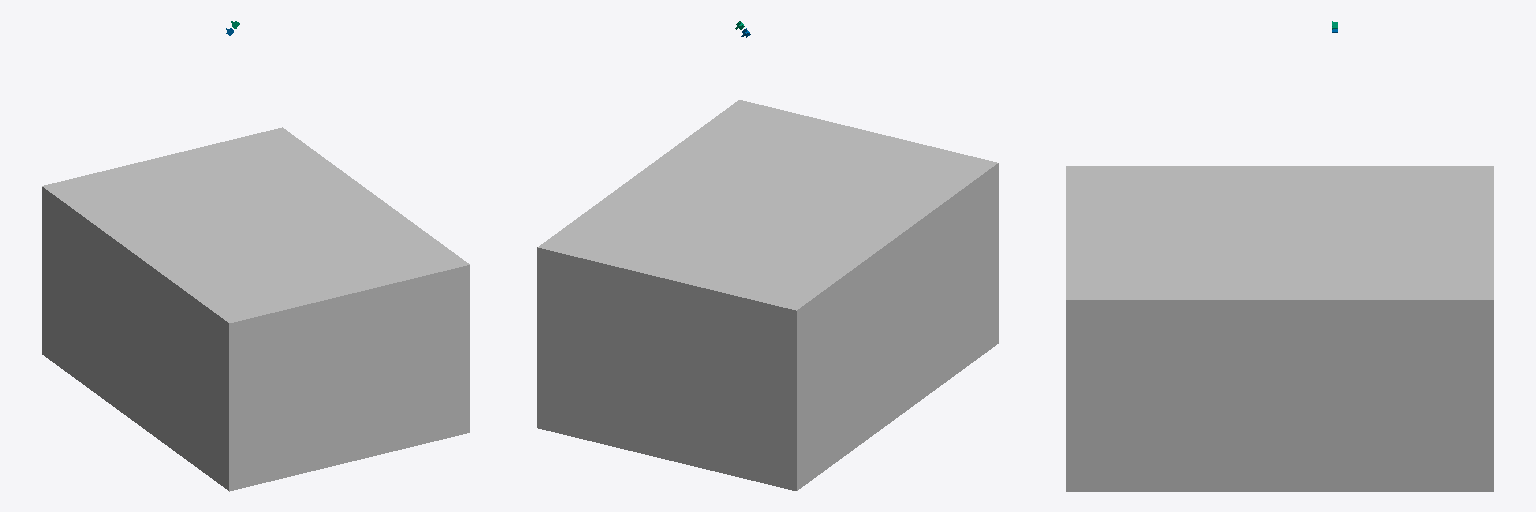
robot.urdf — panda:
<?xml version="1.0" ?>
<!-- =================================================================================== -->
<!-- |    This document was autogenerated by xacro from mmint_panda.urdf.xacro         | -->
<!-- |    EDITING THIS FILE BY HAND IS NOT RECOMMENDED                                 | -->
<!-- =================================================================================== -->
<robot name="panda">
  <material name="blue">
    <color rgba="0.0 0.0 0.8 1.0"/>
  </material>
  <material name="green">
    <color rgba="0.0 0.8 0.0 1.0"/>
  </material>
  <material name="grey">
    <color rgba="0.2 0.2 0.2 1.0"/>
  </material>
  <material name="orange">
    <color rgba="1.0 0.4235294117647059 0.0392156862745098 1.0"/>
  </material>
  <material name="brown">
    <color rgba="0.8705882352941177 0.8117647058823529 0.7647058823529411 1.0"/>
  </material>
  <material name="red">
    <color rgba="0.8 0.0 0.0 1.0"/>
  </material>
  <material name="white">
    <color rgba="1.0 1.0 1.0 1.0"/>
  </material>
  <material name="black">
    <color rgba="0.0 0.0 0.0 1.0"/>
  </material>
  <material name="light_grey">
    <color rgba="0.8 0.8 0.8 1.0"/>
  </material>
  <material name="trans_grey">
    <color rgba="0.2 0.2 0.2 0.5"/>
  </material>
  <!-- box shaped table as base for the 2 Pandas -->
  <link name="base">
    <visual>
      <origin rpy="0 0 0" xyz="0 0 0.3"/>
      <geometry>
        <box size="0.9 1.215 0.6"/>
      </geometry>
      <material name="light_grey"/>
    </visual>
    <collision>
      <origin rpy="0 0 0" xyz="0 0 0.3"/>
      <geometry>
        <box size="0.9 1.215 0.6"/>
      </geometry>
    </collision>
  </link>
  <link name="tabletop"/>
  <joint name="world_to_table" type="fixed">
    <origin rpy="0 0 0" xyz="0 0 0.6"/>
    <parent link="base"/>
    <child link="tabletop"/>
  </joint>
  <joint name="panda_1_joint_base" type="fixed">
    <parent link="base"/>
    <child link="panda_1_link0"/>
    <origin rpy="0.0 0.0 -1.57079633" xyz="0 0.4425 0.6"/>
  </joint>
  <!-- sub-link defining detailed meshes for collision with environment -->
  <link name="panda_1_link0">
    <visual>
      <geometry>
        <mesh filename="package://franka_description/meshes/visual/link0.dae"/>
      </geometry>
    </visual>
    <collision>
      <geometry>
        <mesh filename="package://franka_description/meshes/collision/link0.stl"/>
      </geometry>
    </collision>
  </link>
  <!-- sub-link defining coarse geometries of real robot's internal self-collision -->
  <link name="panda_1_link0_sc">
    <collision>
      <origin rpy="0 1.5707963267948966 0" xyz="-0.075 0 0.06"/>
      <geometry>
        <cylinder length="0.03" radius="0.06"/>
      </geometry>
    </collision>
    <collision>
      <origin xyz="-0.06 0 0.06"/>
      <geometry>
        <sphere radius="0.06"/>
      </geometry>
    </collision>
    <collision>
      <origin xyz="-0.09 0 0.06"/>
      <geometry>
        <sphere radius="0.06"/>
      </geometry>
    </collision>
  </link>
  <!-- fixed joint between both sub-links -->
  <joint name="panda_1_link0_sc_joint" type="fixed">
    <origin rpy="0 0 0"/>
    <parent link="panda_1_link0"/>
    <child link="panda_1_link0_sc"/>
  </joint>
  <!-- sub-link defining detailed meshes for collision with environment -->
  <link name="panda_1_link1">
    <visual>
      <geometry>
        <mesh filename="package://franka_description/meshes/visual/link1.dae"/>
      </geometry>
    </visual>
    <collision>
      <geometry>
        <mesh filename="package://franka_description/meshes/collision/link1.stl"/>
      </geometry>
    </collision>
  </link>
  <!-- sub-link defining coarse geometries of real robot's internal self-collision -->
  <link name="panda_1_link1_sc">
    <collision>
      <origin rpy="0 0 0" xyz="0 0 -0.1915"/>
      <geometry>
        <cylinder length="0.283" radius="0.06"/>
      </geometry>
    </collision>
    <collision>
      <origin xyz="0 0 -0.05000000000000002"/>
      <geometry>
        <sphere radius="0.06"/>
      </geometry>
    </collision>
    <collision>
      <origin xyz="0 0 -0.33299999999999996"/>
      <geometry>
        <sphere radius="0.06"/>
      </geometry>
    </collision>
  </link>
  <!-- fixed joint between both sub-links -->
  <joint name="panda_1_link1_sc_joint" type="fixed">
    <origin rpy="0 0 0"/>
    <parent link="panda_1_link1"/>
    <child link="panda_1_link1_sc"/>
  </joint>
  <joint name="panda_1_joint1" type="revolute">
    <origin rpy="0 0 0" xyz="0 0 0.333"/>
    <parent link="panda_1_link0"/>
    <child link="panda_1_link1"/>
    <axis xyz="0 0 1"/>
    <limit effort="87.0" lower="-2.8973" upper="2.8973" velocity="2.175"/>
    <safety_controller k_position="100.0" k_velocity="40.0" soft_lower_limit="-2.8973" soft_upper_limit="2.8973"/>
    <dynamics D="1" K="7000" damping="0.003" friction="0.0" mu_coulomb="0" mu_viscous="16"/>
  </joint>
  <!-- sub-link defining detailed meshes for collision with environment -->
  <link name="panda_1_link2">
    <visual>
      <geometry>
        <mesh filename="package://franka_description/meshes/visual/link2.dae"/>
      </geometry>
    </visual>
    <collision>
      <geometry>
        <mesh filename="package://franka_description/meshes/collision/link2.stl"/>
      </geometry>
    </collision>
  </link>
  <!-- sub-link defining coarse geometries of real robot's internal self-collision -->
  <link name="panda_1_link2_sc">
    <collision>
      <origin rpy="0 0 0" xyz="0 0 0"/>
      <geometry>
        <cylinder length="0.12" radius="0.06"/>
      </geometry>
    </collision>
    <collision>
      <origin xyz="0 0 0.06"/>
      <geometry>
        <sphere radius="0.06"/>
      </geometry>
    </collision>
    <collision>
      <origin xyz="0 0 -0.06"/>
      <geometry>
        <sphere radius="0.06"/>
      </geometry>
    </collision>
  </link>
  <!-- fixed joint between both sub-links -->
  <joint name="panda_1_link2_sc_joint" type="fixed">
    <origin rpy="0 0 0"/>
    <parent link="panda_1_link2"/>
    <child link="panda_1_link2_sc"/>
  </joint>
  <joint name="panda_1_joint2" type="revolute">
    <origin rpy="-1.5707963267948966 0 0" xyz="0 0 0"/>
    <parent link="panda_1_link1"/>
    <child link="panda_1_link2"/>
    <axis xyz="0 0 1"/>
    <limit effort="87.0" lower="-1.7628" upper="1.7628" velocity="2.175"/>
    <safety_controller k_position="100.0" k_velocity="40.0" soft_lower_limit="-1.7628" soft_upper_limit="1.7628"/>
    <dynamics D="1" K="7000" damping="0.003" friction="0.0" mu_coulomb="0" mu_viscous="16"/>
  </joint>
  <!-- sub-link defining detailed meshes for collision with environment -->
  <link name="panda_1_link3">
    <visual>
      <geometry>
        <mesh filename="package://franka_description/meshes/visual/link3.dae"/>
      </geometry>
    </visual>
    <collision>
      <geometry>
        <mesh filename="package://franka_description/meshes/collision/link3.stl"/>
      </geometry>
    </collision>
  </link>
  <!-- sub-link defining coarse geometries of real robot's internal self-collision -->
  <link name="panda_1_link3_sc">
    <collision>
      <origin rpy="0 0 0" xyz="0 0 -0.145"/>
      <geometry>
        <cylinder length="0.15" radius="0.06"/>
      </geometry>
    </collision>
    <collision>
      <origin xyz="0 0 -0.06999999999999999"/>
      <geometry>
        <sphere radius="0.06"/>
      </geometry>
    </collision>
    <collision>
      <origin xyz="0 0 -0.21999999999999997"/>
      <geometry>
        <sphere radius="0.06"/>
      </geometry>
    </collision>
  </link>
  <!-- fixed joint between both sub-links -->
  <joint name="panda_1_link3_sc_joint" type="fixed">
    <origin rpy="0 0 0"/>
    <parent link="panda_1_link3"/>
    <child link="panda_1_link3_sc"/>
  </joint>
  <joint name="panda_1_joint3" type="revolute">
    <origin rpy="1.5707963267948966 0 0" xyz="0 -0.316 0"/>
    <parent link="panda_1_link2"/>
    <child link="panda_1_link3"/>
    <axis xyz="0 0 1"/>
    <limit effort="87.0" lower="-2.8973" upper="2.8973" velocity="2.175"/>
    <safety_controller k_position="100.0" k_velocity="40.0" soft_lower_limit="-2.8973" soft_upper_limit="2.8973"/>
    <dynamics D="1" K="7000" damping="0.003" friction="0.0" mu_coulomb="0" mu_viscous="16"/>
  </joint>
  <!-- sub-link defining detailed meshes for collision with environment -->
  <link name="panda_1_link4">
    <visual>
      <geometry>
        <mesh filename="package://franka_description/meshes/visual/link4.dae"/>
      </geometry>
    </visual>
    <collision>
      <geometry>
        <mesh filename="package://franka_description/meshes/collision/link4.stl"/>
      </geometry>
    </collision>
  </link>
  <!-- sub-link defining coarse geometries of real robot's internal self-collision -->
  <link name="panda_1_link4_sc">
    <collision>
      <origin rpy="0 0 0" xyz="0 0 0"/>
      <geometry>
        <cylinder length="0.12" radius="0.06"/>
      </geometry>
    </collision>
    <collision>
      <origin xyz="0 0 0.06"/>
      <geometry>
        <sphere radius="0.06"/>
      </geometry>
    </collision>
    <collision>
      <origin xyz="0 0 -0.06"/>
      <geometry>
        <sphere radius="0.06"/>
      </geometry>
    </collision>
  </link>
  <!-- fixed joint between both sub-links -->
  <joint name="panda_1_link4_sc_joint" type="fixed">
    <origin rpy="0 0 0"/>
    <parent link="panda_1_link4"/>
    <child link="panda_1_link4_sc"/>
  </joint>
  <joint name="panda_1_joint4" type="revolute">
    <origin rpy="1.5707963267948966 0 0" xyz="0.0825 0 0"/>
    <parent link="panda_1_link3"/>
    <child link="panda_1_link4"/>
    <axis xyz="0 0 1"/>
    <limit effort="87.0" lower="-3.0718" upper="-0.0698" velocity="2.175"/>
    <safety_controller k_position="100.0" k_velocity="40.0" soft_lower_limit="-3.0718" soft_upper_limit="-0.0698"/>
    <dynamics D="1" K="7000" damping="0.003" friction="0.0" mu_coulomb="0" mu_viscous="16"/>
  </joint>
  <!-- sub-link defining detailed meshes for collision with environment -->
  <link name="panda_1_link5">
    <visual>
      <geometry>
        <mesh filename="package://franka_description/meshes/visual/link5.dae"/>
      </geometry>
    </visual>
    <collision>
      <geometry>
        <mesh filename="package://franka_description/meshes/collision/link5.stl"/>
      </geometry>
    </collision>
  </link>
  <!-- sub-link defining coarse geometries of real robot's internal self-collision -->
  <link name="panda_1_link5_sc">
    <collision>
      <origin rpy="0 0 0" xyz="0 0 -0.26"/>
      <geometry>
        <cylinder length="0.1" radius="0.06"/>
      </geometry>
    </collision>
    <collision>
      <origin xyz="0 0 -0.21000000000000002"/>
      <geometry>
        <sphere radius="0.06"/>
      </geometry>
    </collision>
    <collision>
      <origin xyz="0 0 -0.31"/>
      <geometry>
        <sphere radius="0.06"/>
      </geometry>
    </collision>
    <collision>
      <origin rpy="0 0 0.08" xyz="0 0.08 -0.13"/>
      <geometry>
        <cylinder length="0.14" radius="0.025"/>
      </geometry>
    </collision>
    <collision>
      <origin xyz="0 0.08 -0.06"/>
      <geometry>
        <sphere radius="0.025"/>
      </geometry>
    </collision>
    <collision>
      <origin xyz="0 0.08 -0.2"/>
      <geometry>
        <sphere radius="0.025"/>
      </geometry>
    </collision>
  </link>
  <!-- fixed joint between both sub-links -->
  <joint name="panda_1_link5_sc_joint" type="fixed">
    <origin rpy="0 0 0"/>
    <parent link="panda_1_link5"/>
    <child link="panda_1_link5_sc"/>
  </joint>
  <joint name="panda_1_joint5" type="revolute">
    <origin rpy="-1.5707963267948966 0 0" xyz="-0.0825 0.384 0"/>
    <parent link="panda_1_link4"/>
    <child link="panda_1_link5"/>
    <axis xyz="0 0 1"/>
    <limit effort="12.0" lower="-2.8973" upper="2.8973" velocity="2.61"/>
    <safety_controller k_position="100.0" k_velocity="40.0" soft_lower_limit="-2.8973" soft_upper_limit="2.8973"/>
    <dynamics D="1" K="7000" damping="0.003" friction="0.0" mu_coulomb="0" mu_viscous="16"/>
  </joint>
  <!-- sub-link defining detailed meshes for collision with environment -->
  <link name="panda_1_link6">
    <visual>
      <geometry>
        <mesh filename="package://franka_description/meshes/visual/link6.dae"/>
      </geometry>
    </visual>
    <collision>
      <geometry>
        <mesh filename="package://franka_description/meshes/collision/link6.stl"/>
      </geometry>
    </collision>
  </link>
  <!-- sub-link defining coarse geometries of real robot's internal self-collision -->
  <link name="panda_1_link6_sc">
    <collision>
      <origin rpy="0 0 0" xyz="0 0 -0.03"/>
      <geometry>
        <cylinder length="0.08" radius="0.05"/>
      </geometry>
    </collision>
    <collision>
      <origin xyz="0 0 0.010000000000000002"/>
      <geometry>
        <sphere radius="0.05"/>
      </geometry>
    </collision>
    <collision>
      <origin xyz="0 0 -0.07"/>
      <geometry>
        <sphere radius="0.05"/>
      </geometry>
    </collision>
  </link>
  <!-- fixed joint between both sub-links -->
  <joint name="panda_1_link6_sc_joint" type="fixed">
    <origin rpy="0 0 0"/>
    <parent link="panda_1_link6"/>
    <child link="panda_1_link6_sc"/>
  </joint>
  <joint name="panda_1_joint6" type="revolute">
    <origin rpy="1.5707963267948966 0 0" xyz="0 0 0"/>
    <parent link="panda_1_link5"/>
    <child link="panda_1_link6"/>
    <axis xyz="0 0 1"/>
    <limit effort="12.0" lower="-0.0175" upper="3.7525" velocity="2.61"/>
    <safety_controller k_position="100.0" k_velocity="40.0" soft_lower_limit="-0.0175" soft_upper_limit="3.7525"/>
    <dynamics D="1" K="7000" damping="0.003" friction="0.0" mu_coulomb="0" mu_viscous="16"/>
  </joint>
  <!-- sub-link defining detailed meshes for collision with environment -->
  <link name="panda_1_link7">
    <visual>
      <geometry>
        <mesh filename="package://franka_description/meshes/visual/link7.dae"/>
      </geometry>
    </visual>
    <collision>
      <geometry>
        <mesh filename="package://franka_description/meshes/collision/link7.stl"/>
      </geometry>
    </collision>
  </link>
  <!-- sub-link defining coarse geometries of real robot's internal self-collision -->
  <link name="panda_1_link7_sc">
    <collision>
      <origin rpy="0 0 0" xyz="0 0 0.01"/>
      <geometry>
        <cylinder length="0.14" radius="0.04"/>
      </geometry>
    </collision>
    <collision>
      <origin xyz="0 0 0.08"/>
      <geometry>
        <sphere radius="0.04"/>
      </geometry>
    </collision>
    <collision>
      <origin xyz="0 0 -0.060000000000000005"/>
      <geometry>
        <sphere radius="0.04"/>
      </geometry>
    </collision>
    <collision>
      <origin rpy="0 1.5707963267948966 0" xyz="0.06 0 0.082"/>
      <geometry>
        <cylinder length="0.01" radius="0.03"/>
      </geometry>
    </collision>
    <collision>
      <origin xyz="0.065 0 0.082"/>
      <geometry>
        <sphere radius="0.03"/>
      </geometry>
    </collision>
    <collision>
      <origin xyz="0.055 0 0.082"/>
      <geometry>
        <sphere radius="0.03"/>
      </geometry>
    </collision>
  </link>
  <!-- fixed joint between both sub-links -->
  <joint name="panda_1_link7_sc_joint" type="fixed">
    <origin rpy="0 0 0.7853981633974483"/>
    <parent link="panda_1_link7"/>
    <child link="panda_1_link7_sc"/>
  </joint>
  <joint name="panda_1_joint7" type="revolute">
    <origin rpy="1.5707963267948966 0 0" xyz="0.088 0 0"/>
    <parent link="panda_1_link6"/>
    <child link="panda_1_link7"/>
    <axis xyz="0 0 1"/>
    <limit effort="12.0" lower="-2.8973" upper="2.8973" velocity="2.61"/>
    <safety_controller k_position="100.0" k_velocity="40.0" soft_lower_limit="-2.8973" soft_upper_limit="2.8973"/>
    <dynamics D="1" K="7000" damping="0.003" friction="0.0" mu_coulomb="0" mu_viscous="16"/>
  </joint>
  <link name="panda_1_link8"/>
  <joint name="panda_1_joint8" type="fixed">
    <origin rpy="0 0 0" xyz="0 0 0.107"/>
    <parent link="panda_1_link7"/>
    <child link="panda_1_link8"/>
  </joint>
  <joint name="panda_1_hand_joint" type="fixed">
    <parent link="panda_1_link8"/>
    <child link="panda_1_hand"/>
    <origin rpy="0 0 -0.7853981633974483" xyz="0 0 0"/>
  </joint>
  <link name="panda_1_hand">
    <visual>
      <geometry>
        <mesh filename="package://franka_description/meshes/visual/hand.dae"/>
      </geometry>
    </visual>
    <collision>
      <geometry>
        <mesh filename="package://franka_description/meshes/collision/hand.stl"/>
      </geometry>
    </collision>
  </link>
  <!--  Left finger  -->
  <joint name="panda_1_finger_joint1" type="prismatic">
    <parent link="panda_1_hand"/>
    <child link="mount_left"/>
    <origin rpy="-1.5707963268 0 0" xyz="0 0 0.06340285"/>
    <axis xyz="0 0 1"/>
    <limit effort="100" lower="0" upper="0.04" velocity="0.2"/>
  </joint>
  <link name="mount_left">
    <visual>
      <origin rpy="3.1415926536 0 0" xyz="0.0 0.0 0.0"/>
      <geometry>
        <mesh filename="package://mmint_franka_description/meshes/visual/gelsight/panda_attach_gs_mini.obj"/>
      </geometry>
    </visual>
    <collision>
      <origin rpy="3.1415926536 0 0" xyz="0.0 0.0 0.0"/>
      <geometry>
        <mesh filename="package://mmint_franka_description/meshes/visual/gelsight/panda_attach_gs_mini.obj"/>
      </geometry>
    </collision>
  </link>
  <joint name="mount_joint_left" type="fixed">
    <parent link="mount_left"/>
    <child link="panda_1_leftfinger"/>
    <origin rpy="0 0 0" xyz="0.0 -0.02 0.0175"/>
  </joint>
  <link name="panda_1_leftfinger">
    <visual>
      <origin rpy="0 0 0" xyz="0 0 0"/>
      <geometry>
        <mesh filename="package://mmint_franka_description/meshes/visual/gelsight/panda_adapter_gsmini.obj"/>
      </geometry>
    </visual>
    <collision>
      <origin rpy="0 0 0" xyz="0.0 0.0 0.0"/>
      <geometry>
        <mesh filename="package://mmint_franka_description/meshes/visual/gelsight/panda_adapter_gsmini.obj"/>
      </geometry>
    </collision>
  </link>
  <joint name="panda_1_fingerbox_left_joint" type="fixed">
    <origin rpy="0 0 0" xyz="0.0 0.0 0.0"/>
    <parent link="panda_1_leftfinger"/>
    <child link="panda_1_fingerbox_left"/>
    <axis xyz="0 0 0"/>
  </joint>
  <link name="panda_1_fingerbox_left">
    <visual>
      <geometry>
        <mesh filename="package://mmint_franka_description/meshes/visual/gelsight/gsmini_shell_hollow_transformed.obj"/>
      </geometry>
    </visual>
    <collision>
      <geometry>
        <mesh filename="package://mmint_franka_description/meshes/visual/gelsight/gsmini_shell_hollow_transformed.obj"/>
      </geometry>
    </collision>
  </link>
  <joint name="elastomer_joint_left" type="fixed">
    <origin rpy="0 0 0" xyz="0.0 0.0 0.0"/>
    <parent link="panda_1_fingerbox_left"/>
    <child link="elastomer_left"/>
    <axis xyz="0 0 0"/>
  </joint>
  <link name="elastomer_left">
    <visual>
      <geometry>
        <mesh filename="package://mmint_franka_description/meshes/visual/gelsight/gsmini_elastomer_transformed_both_sides.obj"/>
      </geometry>
    </visual>
    <collision>
      <geometry>
        <mesh filename="package://mmint_franka_description/meshes/visual/gelsight/gsmini_elastomer_transformed_enclosed.obj"/>
      </geometry>
    </collision>
  </link>
  <joint name="elastomer_tip_joint_left" type="fixed">
    <!-- <origin rpy="1.5707963267948966 0 0" xyz="0.0 -0.00255914 0.06776"/>  -->
    <origin rpy="3.141592653589793 0 0" xyz="-0.00050001 -0.05975001 -0.01125"/>
    <parent link="panda_1_fingerbox_left"/>
    <child link="elastomer_tip_left"/>
    <axis xyz="0 0 0"/>
  </joint>
  <link name="elastomer_tip_left"/>
  <joint name="panda_1_fingertip_joint1" type="fixed">
    <parent link="panda_1_fingerbox_left"/>
    <child link="panda_1_leftfingertip"/>
    <!--0.08388700 (franka_finger_length)-->
    <origin rpy="0 0 0" xyz="0 -0.07388700 0"/>
  </joint>
  <link name="panda_1_leftfingertip"/>
  <!--  Right finger  -->
  <joint name="panda_1_finger_joint2" type="prismatic">
    <parent link="panda_1_hand"/>
    <child link="mount_right"/>
    <origin rpy="-1.5707 0 3.1415926536" xyz="0 0 0.06340285"/>
    <axis xyz="0 0 1"/>
    <limit effort="100" lower="0.0" upper="0.04" velocity="0.2"/>
  </joint>
  <link name="mount_right">
    <visual>
      <origin rpy="3.1415926536 0 0" xyz="0.0 0.0 0.0"/>
      <geometry>
        <mesh filename="package://mmint_franka_description/meshes/visual/gelsight/panda_attach_gs_mini.obj"/>
      </geometry>
    </visual>
    <collision>
      <origin rpy="3.1415926536 0 0" xyz="0.0 0.0 0.0"/>
      <geometry>
        <mesh filename="package://mmint_franka_description/meshes/visual/gelsight/panda_attach_gs_mini.obj"/>
      </geometry>
    </collision>
  </link>
  <joint name="mount_joint_right" type="fixed">
    <origin rpy="0 0 0" xyz="0.0 -0.02 0.0175"/>
    <parent link="mount_right"/>
    <child link="panda_1_rightfinger"/>
    <axis xyz="0 0 0"/>
  </joint>
  <link name="panda_1_rightfinger">
    <visual>
      <origin rpy="0 0 0" xyz="0.0 0.0 0.0"/>
      <geometry>
        <mesh filename="package://mmint_franka_description/meshes/visual/gelsight/panda_adapter_gsmini.obj"/>
      </geometry>
    </visual>
    <collision>
      <origin rpy="0 0 0" xyz="0.0 0.0 0.0"/>
      <geometry>
        <mesh filename="package://mmint_franka_description/meshes/visual/gelsight/panda_adapter_gsmini.obj"/>
      </geometry>
    </collision>
  </link>
  <joint name="panda_1_fingerbox_right_joint" type="fixed">
    <origin rpy="0 0 0" xyz="0.0 0.0 0.0"/>
    <parent link="panda_1_rightfinger"/>
    <child link="panda_1_fingerbox_right"/>
    <axis xyz="0 0 0"/>
  </joint>
  <link name="panda_1_fingerbox_right">
    <visual>
      <geometry>
        <mesh filename="package://mmint_franka_description/meshes/visual/gelsight/gsmini_shell_hollow_transformed.obj"/>
      </geometry>
    </visual>
    <collision>
      <geometry>
        <mesh filename="package://mmint_franka_description/meshes/visual/gelsight/gsmini_shell_hollow_transformed.obj"/>
      </geometry>
    </collision>
  </link>
  <joint name="elastomer_joint_right" type="fixed">
    <origin rpy="0 0 0" xyz="0.0 0.0 0.0"/>
    <parent link="panda_1_rightfinger"/>
    <child link="elastomer_right"/>
    <axis xyz="0 0 0"/>
  </joint>
  <link name="elastomer_right">
    <!-- surface tip of the elastomer  -->
    <visual>
      <geometry>
        <mesh filename="package://mmint_franka_description/meshes/visual/gelsight/gsmini_elastomer_transformed_both_sides.obj"/>
      </geometry>
    </visual>
    <collision>
      <geometry>
        <mesh filename="package://mmint_franka_description/meshes/visual/gelsight/gsmini_elastomer_transformed_enclosed.obj"/>
      </geometry>
    </collision>
  </link>
  <joint name="elastomer_tip_joint_right" type="fixed">
    <!-- <origin rpy="1.5707963267948966 0 0" xyz="0.0 -0.00255914 0.06776"/> -->
    <origin rpy="3.141592653589793 0 0" xyz="-0.00050001 -0.05975001 -0.01125"/>
    <parent link="panda_1_fingerbox_right"/>
    <child link="elastomer_tip_right"/>
    <axis xyz="0 0 0"/>
  </joint>
  <link name="elastomer_tip_right"/>
  <joint name="panda_1_fingertip_joint2" type="fixed">
    <parent link="panda_1_fingerbox_right"/>
    <child link="panda_1_rightfingertip"/>
    <!--0.08388700 (franka_finger_length)-->
    <origin rpy="0 0 0" xyz="0 -0.07388700 0"/>
  </joint>
  <link name="panda_1_rightfingertip"/>
  <!-- Grasp center -->
  <joint name="panda_1_fingertip_centered_joint" type="fixed">
    <parent link="panda_1_hand"/>
    <child link="grasp_frame"/>
    <origin rpy="0 0 0" xyz="0 0 0.14315286"/>
  </joint>
  <link name="grasp_frame"/>
</robot>

--- Facts derived from the render (not from the file) ---
Views: 3 orthographic renders of the robot side by side, from view 1: azimuth 30°, elevation 25°; view 2: azimuth 150°, elevation 25°; view 3: azimuth 270°, elevation 25°.
Model panda with 33 links and 32 joints (7 revolute, 2 prismatic, 23 fixed), rooted at base, posed all joints at 0 but 1 set to mid-range because 0 is outside their limits (panda_1_joint4 = -1.57).
Visible links, largest first — view 1: base; view 2: base; view 3: base.
Boxes of the visible links, x1,y1,x2,y2 form: base: [42, 127, 469, 491]; base: [537, 100, 998, 490]; base: [1066, 166, 1493, 491].
Bounding box of the posed robot: 0.9 × 1.22 × 1.27 m (x, y, z).
Meshes: 13 distinct files referenced, 2 mesh visuals loaded (1 OBJ); not drawn: 15 (reference not matched to a file when rendering).